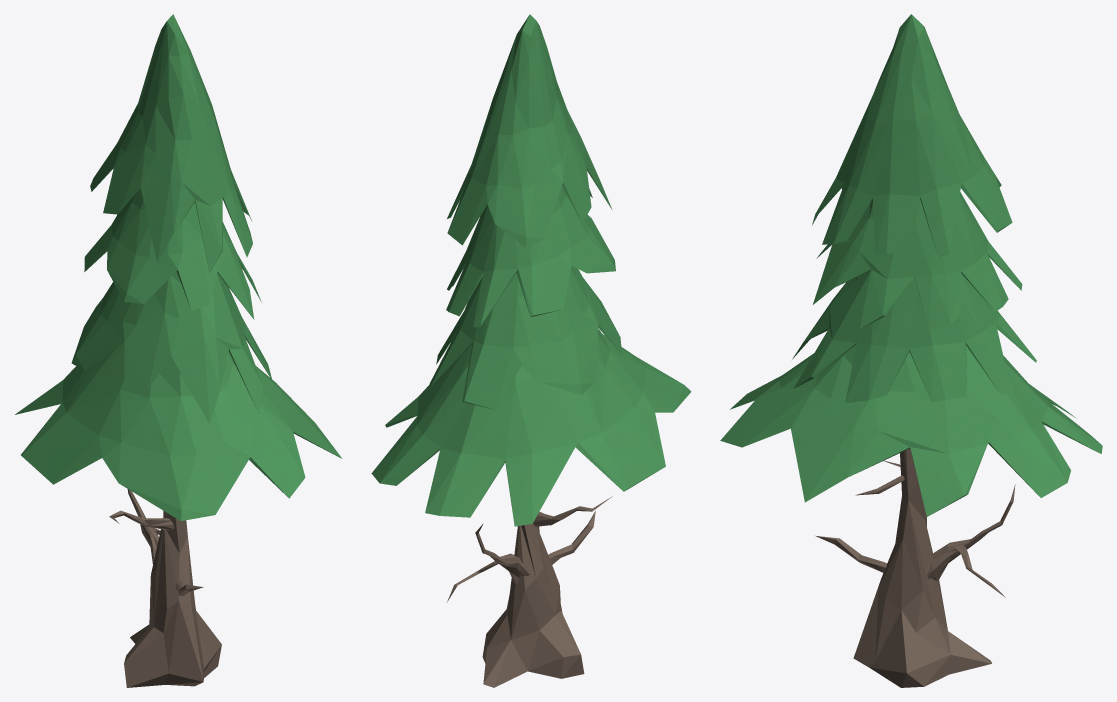
File: Tree_Dark.fbx
3 renders of one model, left to right at view 1: azimuth 30°, elevation 25°; view 2: azimuth 150°, elevation 25°; view 3: azimuth 270°, elevation 25°, orthographic.
Parts seen in each view (by area): view 1: Tree_Dark; view 2: Tree_Dark; view 3: Tree_Dark.
Part boxes in pixels (x1=…): Tree_Dark: x1=15, y1=14, x2=342, y2=687; Tree_Dark: x1=371, y1=14, x2=691, y2=687; Tree_Dark: x1=720, y1=14, x2=1102, y2=687.
Bounding box in the file's own units: 1.86 × 4.47 × 2.37.
